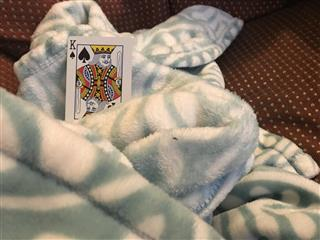KingOfSpades: (64, 35, 135, 124)
